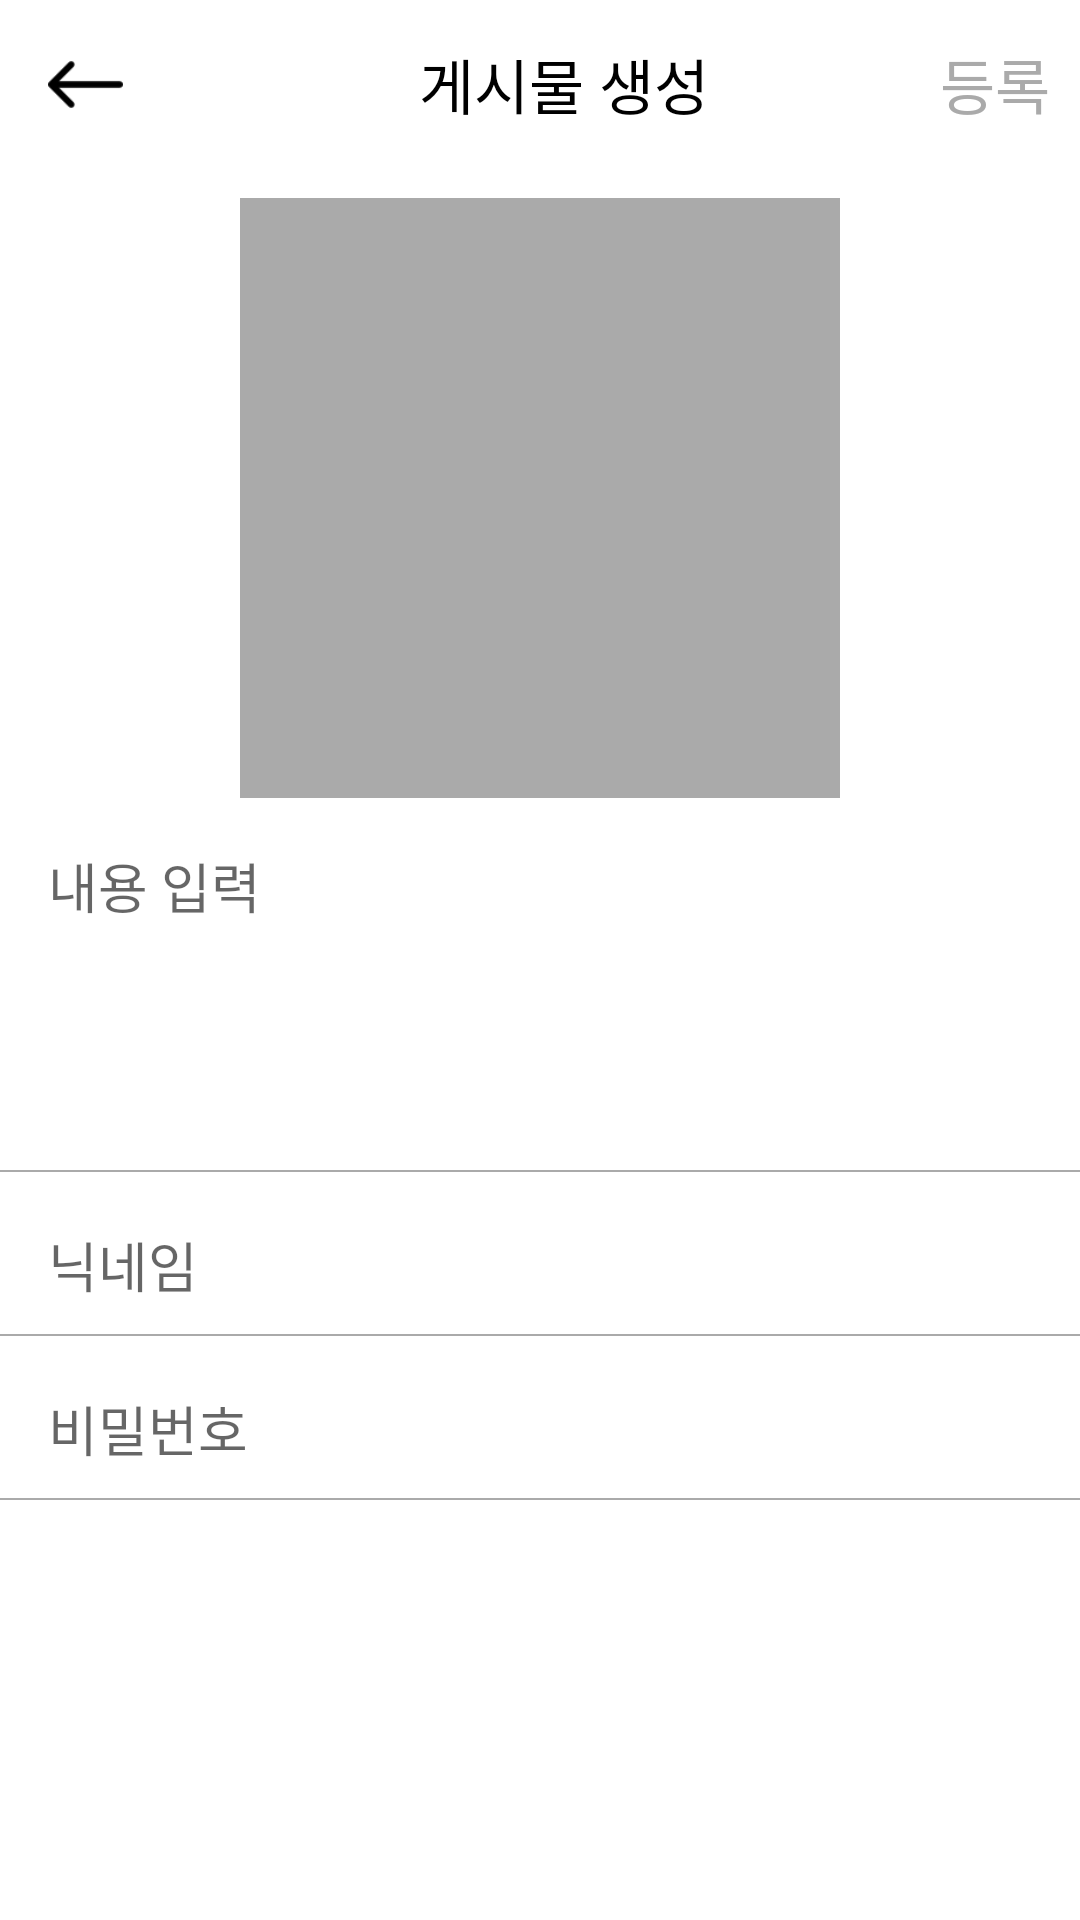

Locate icon controls on the screen. Image size 1080px x 1920px, boxes as {"left": x1, "top": y1, "right": x2, "bottom": y2}.
left arrow: {"left": 48, "top": 61, "right": 123, "bottom": 108}
